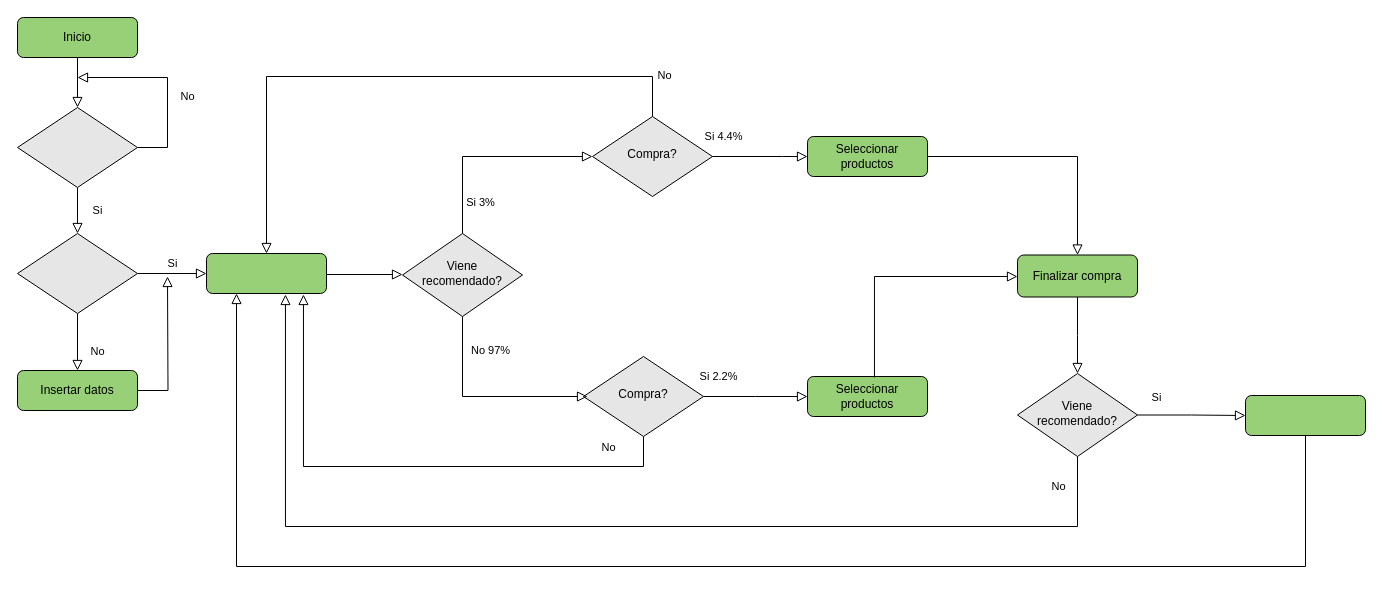
The diagram is 1383 pixels wide and 594 high, and some of its shapes have lost their labels. The shapes that lost their labels are listed below. From the top down, each one's box as (x1, y1, x2, y2) in pixels, then its label:
(16, 106, 138, 188): DB lista?
(16, 232, 138, 314): Composiciones listas?
(206, 252, 326, 294): Nueva visita
(1244, 394, 1366, 436): Calcular comisión
